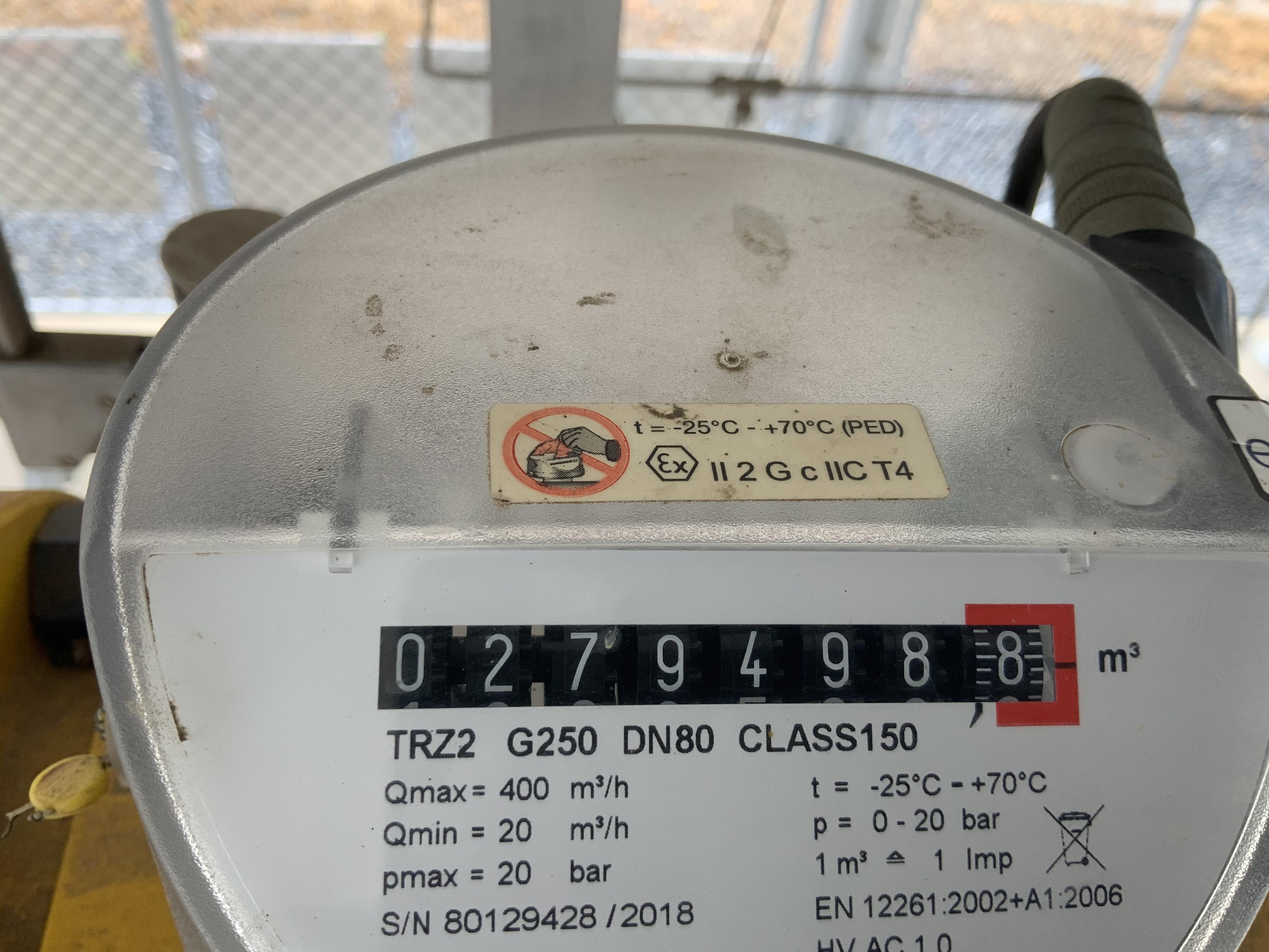analog_dial: (370, 582, 1089, 733)
